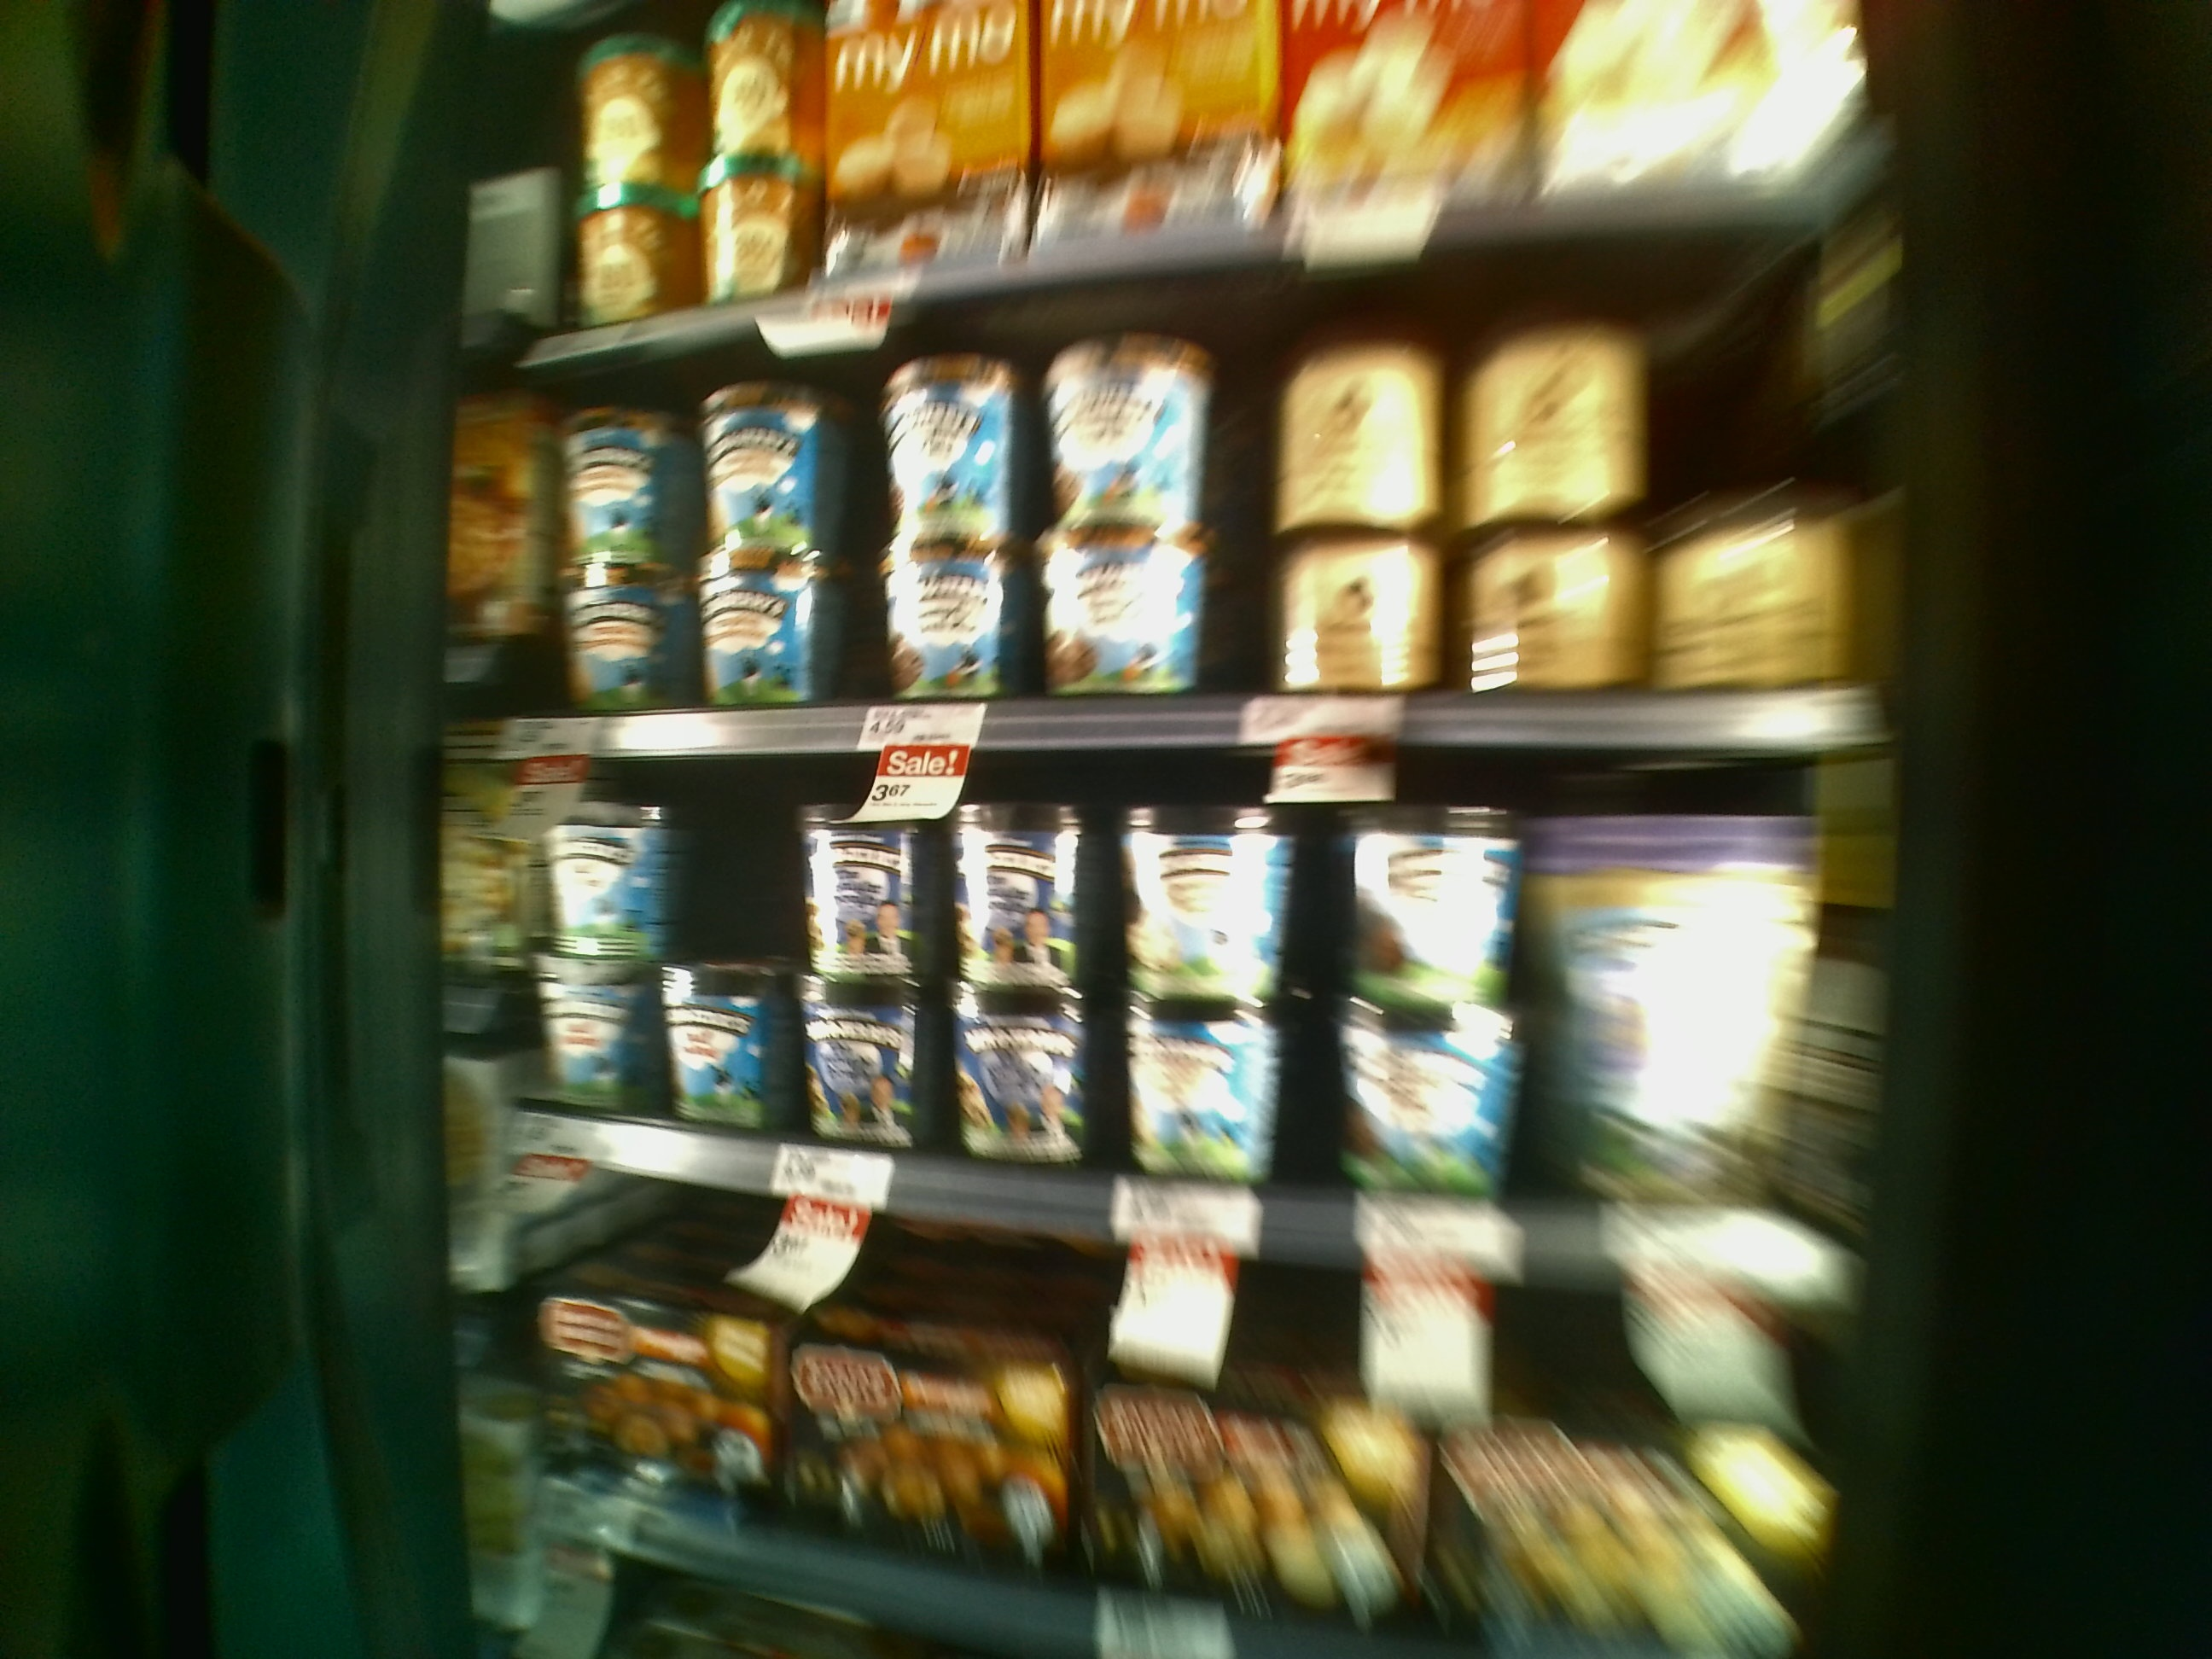shelf: (484, 718, 1838, 1270), (509, 291, 1853, 741)
